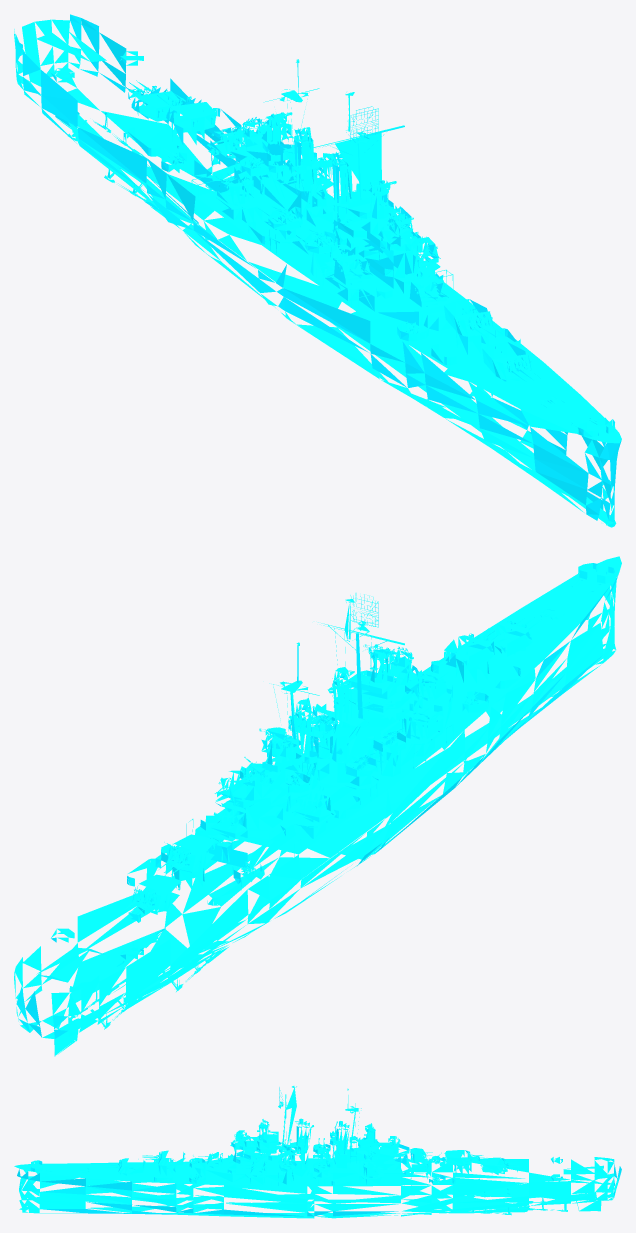
The model's file is PASC208.glb.
The picture shows the model from 3 angles, top to bottom: view 1: azimuth 30°, elevation 25°; view 2: azimuth 150°, elevation 25°; view 3: azimuth 270°, elevation 25°; orthographic projection. The views are drawn at different scales.
Parts seen in each view (by area): view 1: hull, turret; view 2: hull, turret; view 3: hull, turret.
Part boxes in pixels (<box>): hull: <box>14,14,621,527</box>; turret: <box>122,80,541,381</box>; hull: <box>14,556,621,1056</box>; turret: <box>122,615,541,914</box>; hull: <box>14,1086,621,1218</box>; turret: <box>102,1146,522,1180</box>.
Bounding box in the file's own units: 1.33 × 2.82 × 12.3.
